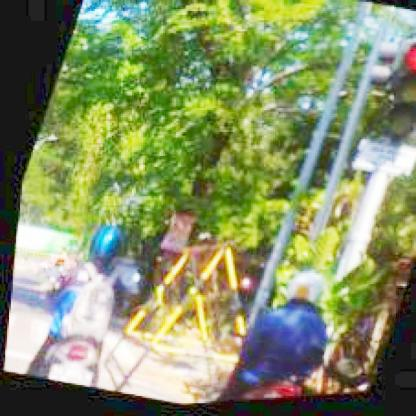Traffic Light -Red-: (372, 39, 414, 155)
